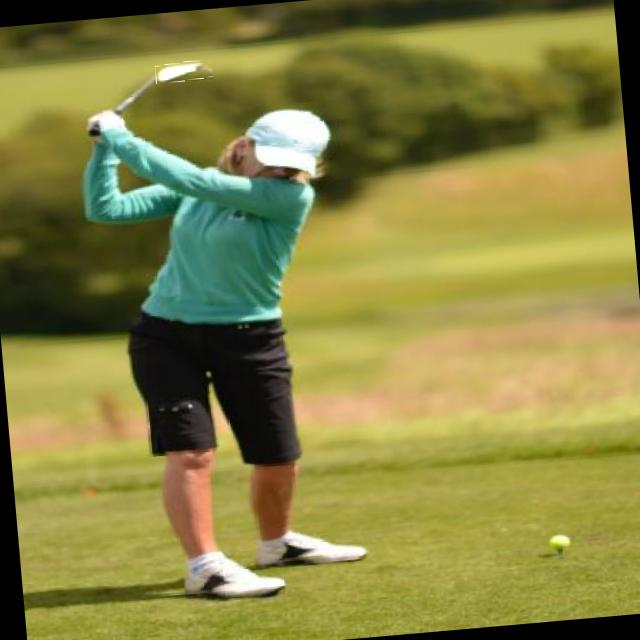club head: (154, 58, 213, 84)
